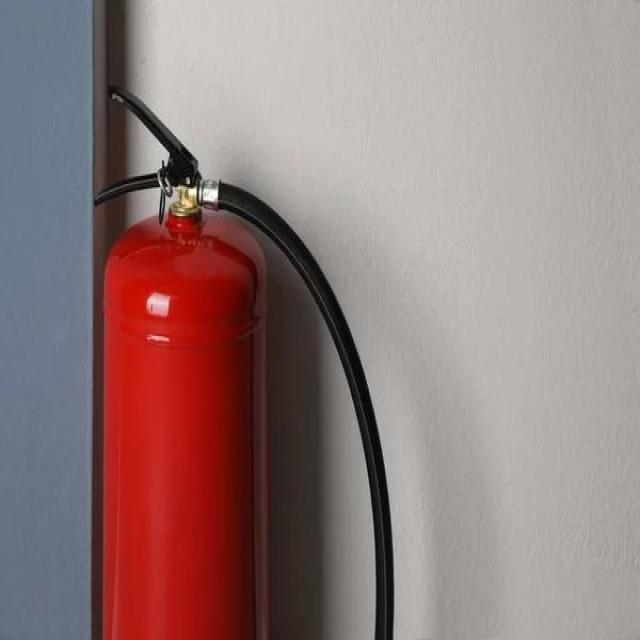fire_extinguisher: (82, 81, 400, 638)
